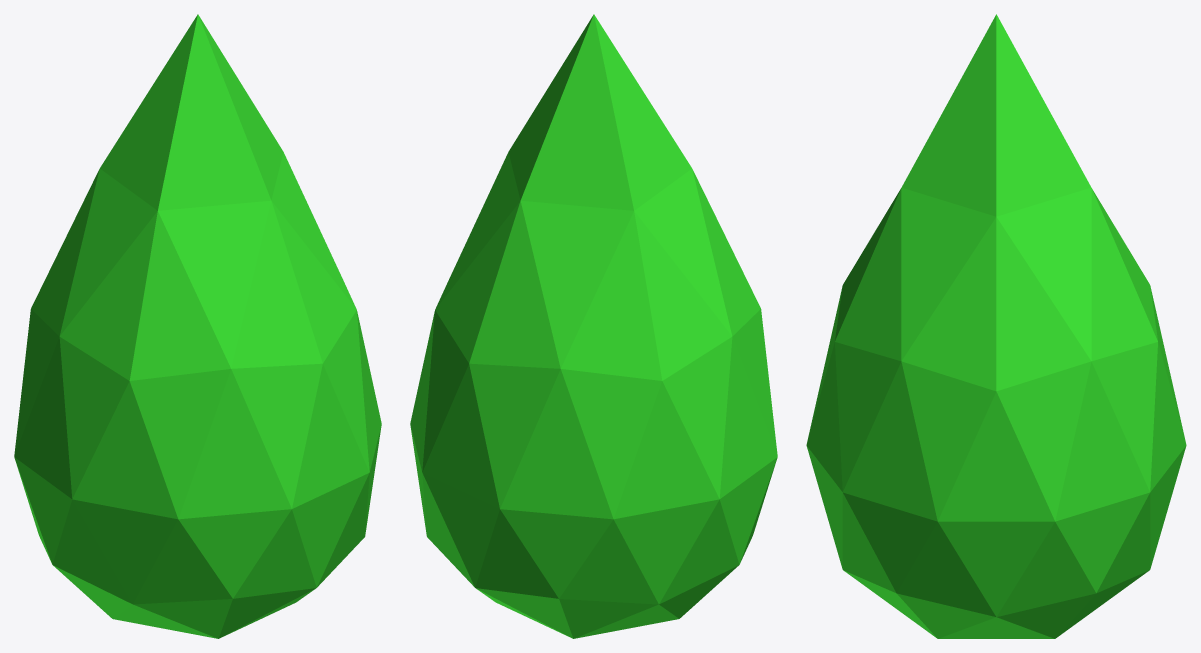
3 views of the same model, side by side, from view 1: azimuth 30°, elevation 25°; view 2: azimuth 150°, elevation 25°; view 3: azimuth 270°, elevation 25° (orthographic).
Parts seen in each view (by area): view 1: Icosphere; view 2: Icosphere; view 3: Icosphere.
Boxes of the visible parts, left/top/right/bottom form: Icosphere: left=14, top=14, right=381, bottom=638; Icosphere: left=410, top=14, right=777, bottom=638; Icosphere: left=806, top=14, right=1186, bottom=638.
Bounding box in the file's own units: 1.9 × 3.58 × 2.
